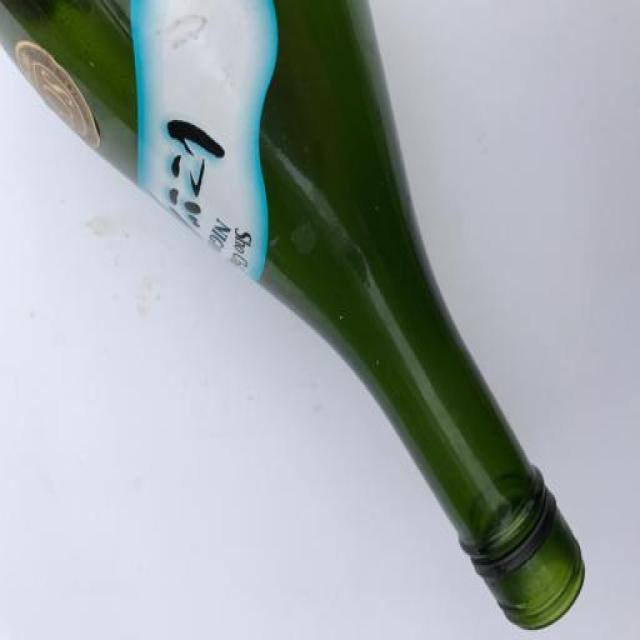Glass: (0, 4, 614, 640)
